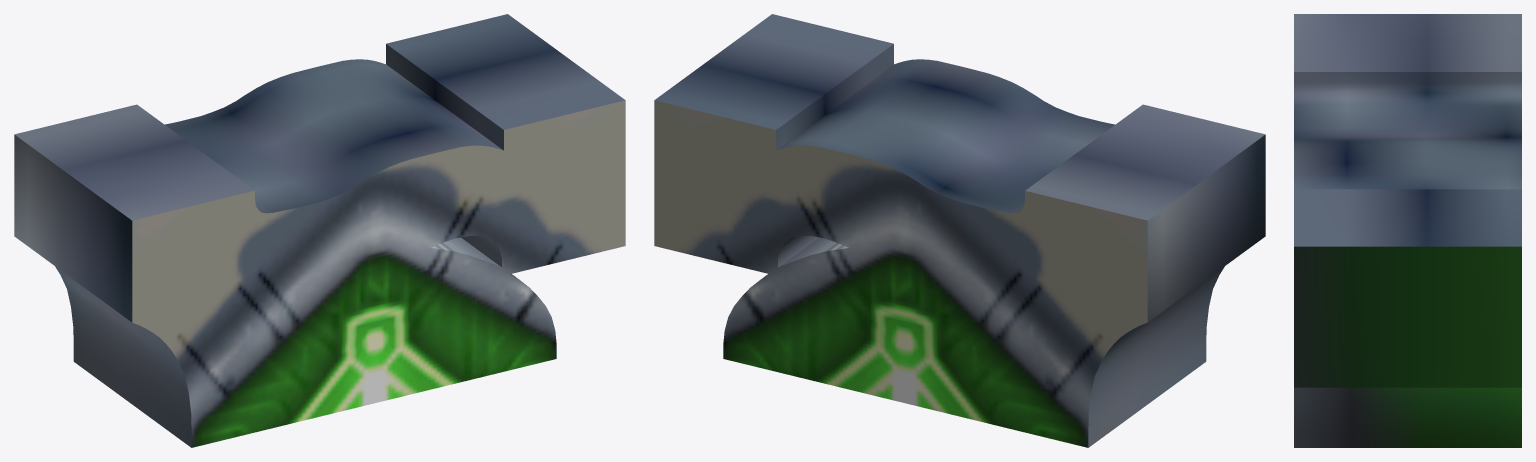
File: icon.ico.obj
The picture shows the model from 3 angles, left to right: view 1: azimuth 30°, elevation 25°; view 2: azimuth 150°, elevation 25°; view 3: azimuth 270°, elevation 25°; orthographic projection. The views are drawn at different scales.
Bounding box in the file's own units: 3.87 × 1.81 × 1.6.
